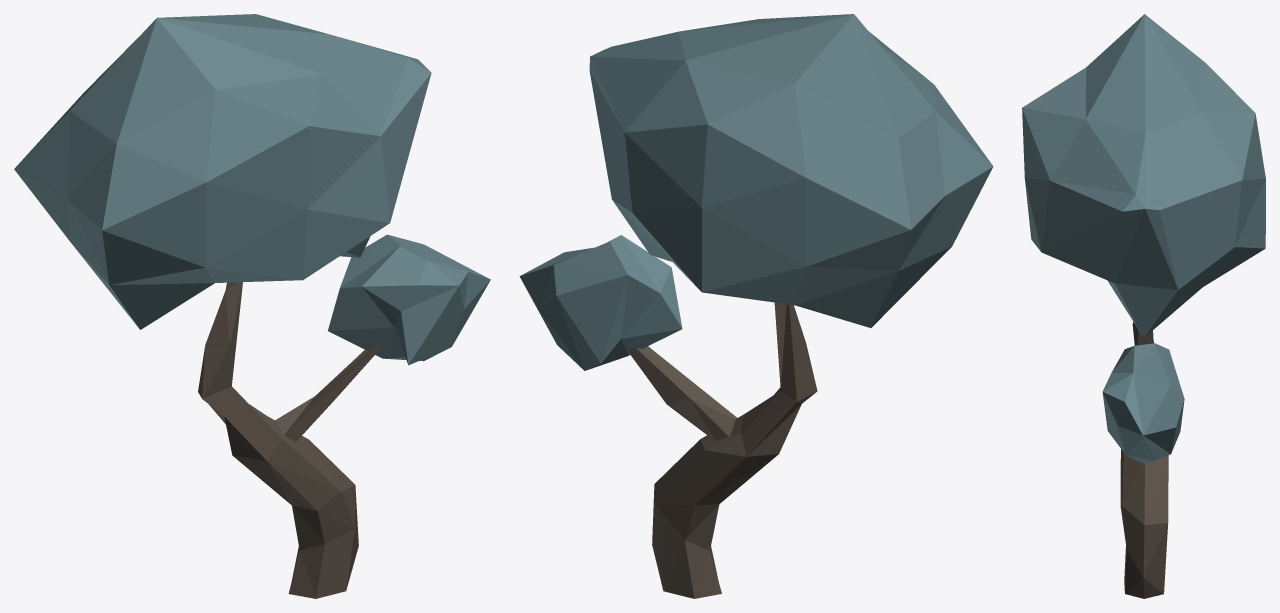
File: tree2.fbx
3 views of the same model, side by side, from view 1: azimuth 30°, elevation 25°; view 2: azimuth 150°, elevation 25°; view 3: azimuth 270°, elevation 25° (orthographic). The views are drawn at different scales.
Parts seen in each view (by area): view 1: Leaves_2, Trunk_2, Leaves, Trunk; view 2: Leaves_2, Trunk_2, Leaves, Trunk; view 3: Leaves_2, Leaves, Trunk_2.
Boxes of the visible parts, x1=… form: Leaves_2: x1=14, y1=14, x2=431, y2=329; Trunk_2: x1=198, y1=282, x2=358, y2=598; Leaves: x1=328, y1=234, x2=490, y2=365; Trunk: x1=275, y1=345, x2=381, y2=442; Leaves_2: x1=589, y1=14, x2=993, y2=327; Trunk_2: x1=652, y1=302, x2=817, y2=598; Leaves: x1=519, y1=235, x2=682, y2=370; Trunk: x1=627, y1=346, x2=736, y2=440; Leaves_2: x1=1022, y1=14, x2=1265, y2=337; Leaves: x1=1102, y1=343, x2=1184, y2=463; Trunk_2: x1=1120, y1=322, x2=1168, y2=598.
Size of the model in its own units: 277 by 373 by 162.
